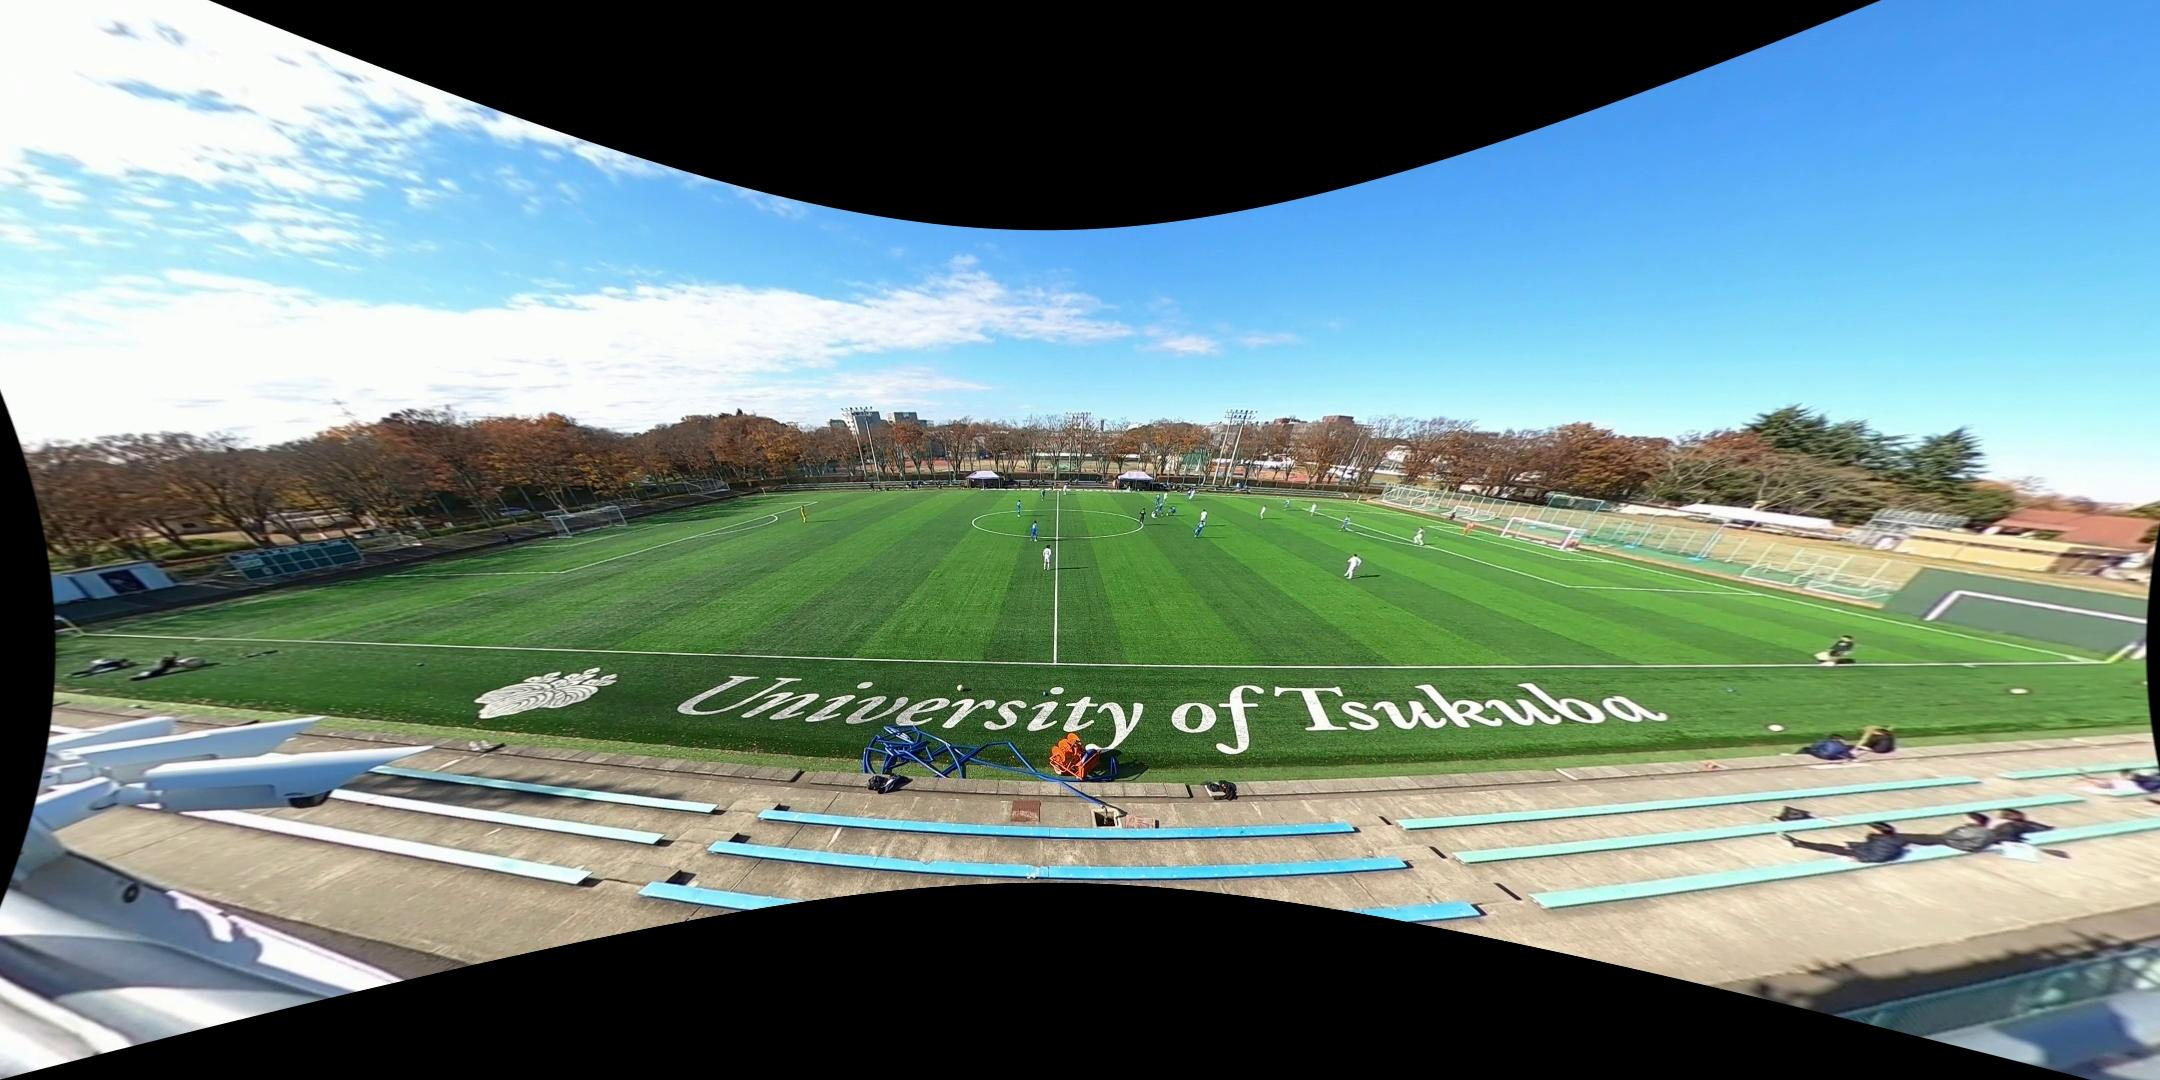person: (1815, 633, 1855, 667), (1344, 553, 1363, 579), (1042, 544, 1053, 571), (1412, 527, 1426, 546), (1338, 514, 1351, 532), (1030, 520, 1039, 542), (1462, 520, 1475, 535), (1194, 521, 1204, 539), (1200, 509, 1209, 527), (800, 504, 808, 523), (1309, 502, 1319, 516), (1139, 508, 1146, 525), (1259, 505, 1267, 519), (1167, 505, 1177, 516), (1155, 504, 1164, 516), (1016, 500, 1022, 518), (1150, 510, 1160, 520), (1284, 497, 1291, 511), (1163, 491, 1170, 504), (1188, 490, 1196, 501), (1154, 494, 1161, 506), (1040, 488, 1046, 501), (1062, 484, 1068, 496), (1187, 489, 1194, 499)
sports ball: (2008, 682, 2031, 702), (1767, 720, 1788, 738), (956, 681, 966, 692)
